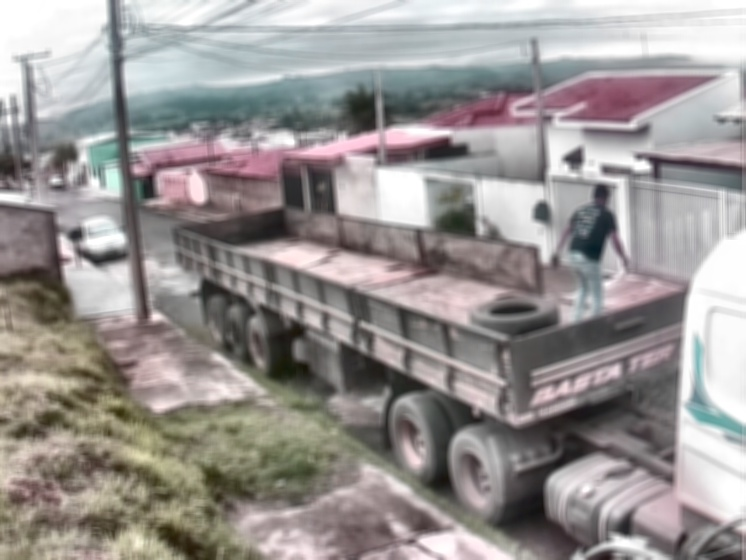person: (549, 183, 631, 327), (479, 216, 508, 244)
